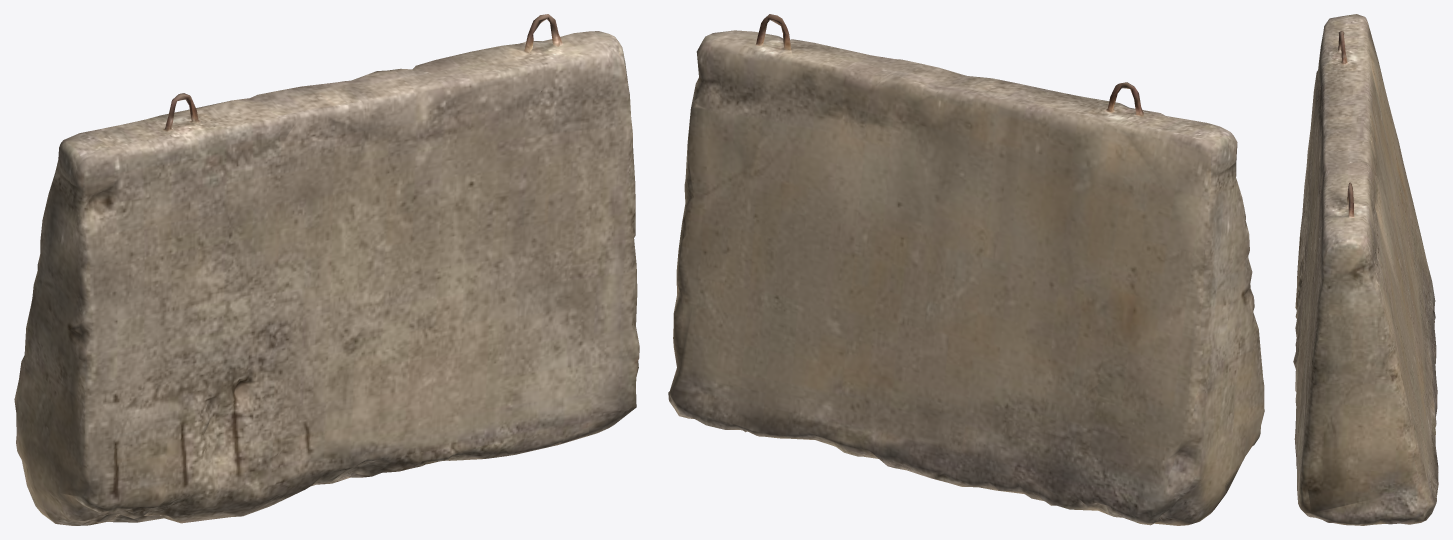
File: concrete_road_barrier_02.glb
3 views of the same model, side by side, from view 1: azimuth 30°, elevation 25°; view 2: azimuth 150°, elevation 25°; view 3: azimuth 270°, elevation 25° (orthographic). The views are drawn at different scales.
Visible parts, largest first — view 1: concrete_road_barrier_02; view 2: concrete_road_barrier_02; view 3: concrete_road_barrier_02.
Boxes of the visible parts, <box> form: concrete_road_barrier_02: <box>14,14,639,525</box>; concrete_road_barrier_02: <box>668,14,1264,525</box>; concrete_road_barrier_02: <box>1293,14,1438,525</box>.
Size of the model in its own units: 1.56 by 1.11 by 0.4418.
1 material, 1 textured.
